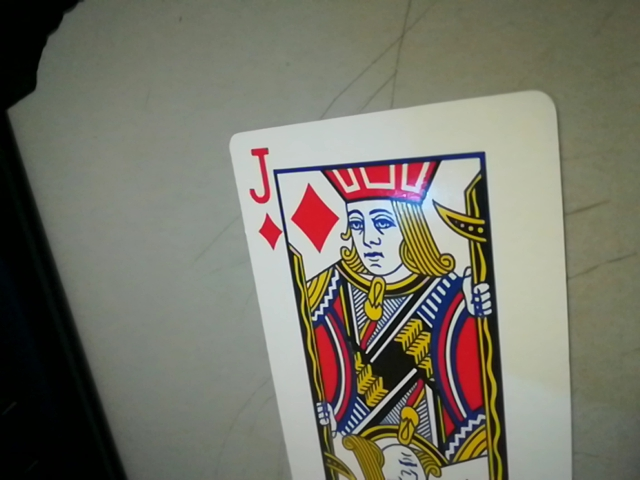fk j: (235, 136, 284, 252)
